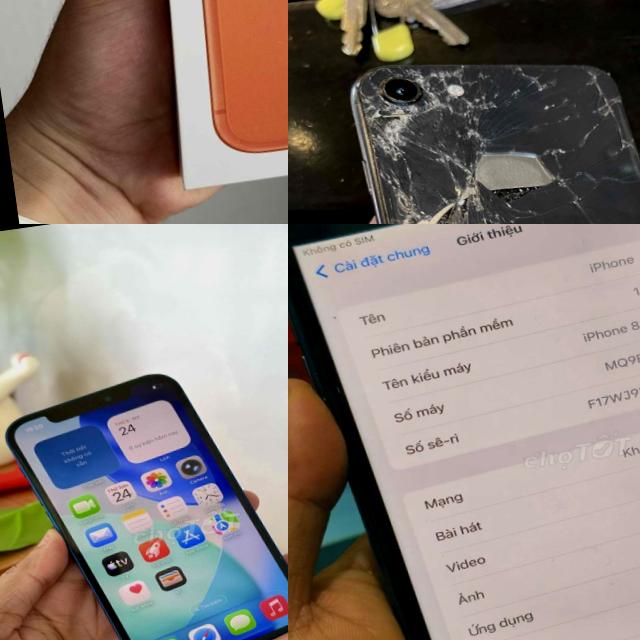gen_12_13: (0, 349, 288, 640)
gen_17: (159, 0, 288, 173)
gen_7_8: (288, 224, 640, 640), (339, 20, 640, 224)
